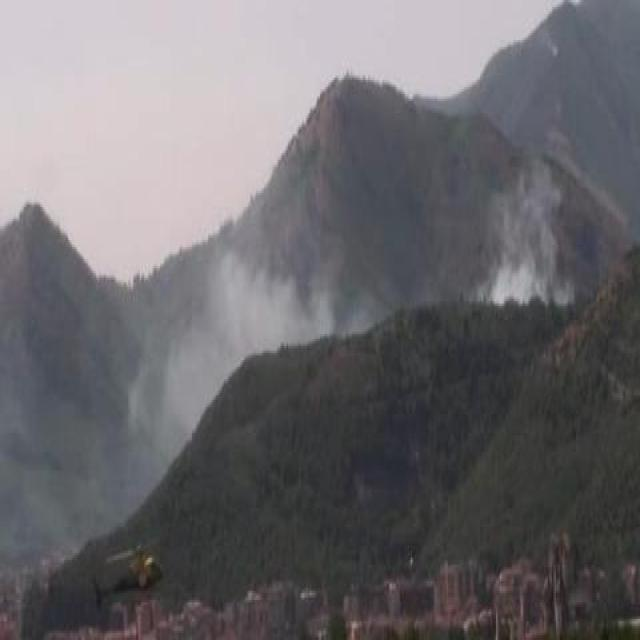Smoke: (180, 244, 332, 370), (491, 198, 564, 306)
